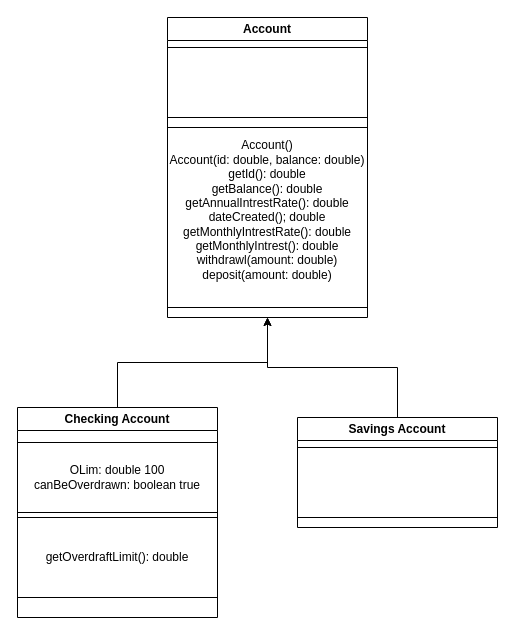
Some shapes in this 515 by 635 pixel diagram are drawn without their labels. Here are the shapes that lost their labels. From the top down, the centre of each, then its label:
point (267, 82): id: Int 0 balance: double 0 annualInterestRate: double 0 dateCreated: Date
point (397, 482): canBeOverdrawn: boolean false
